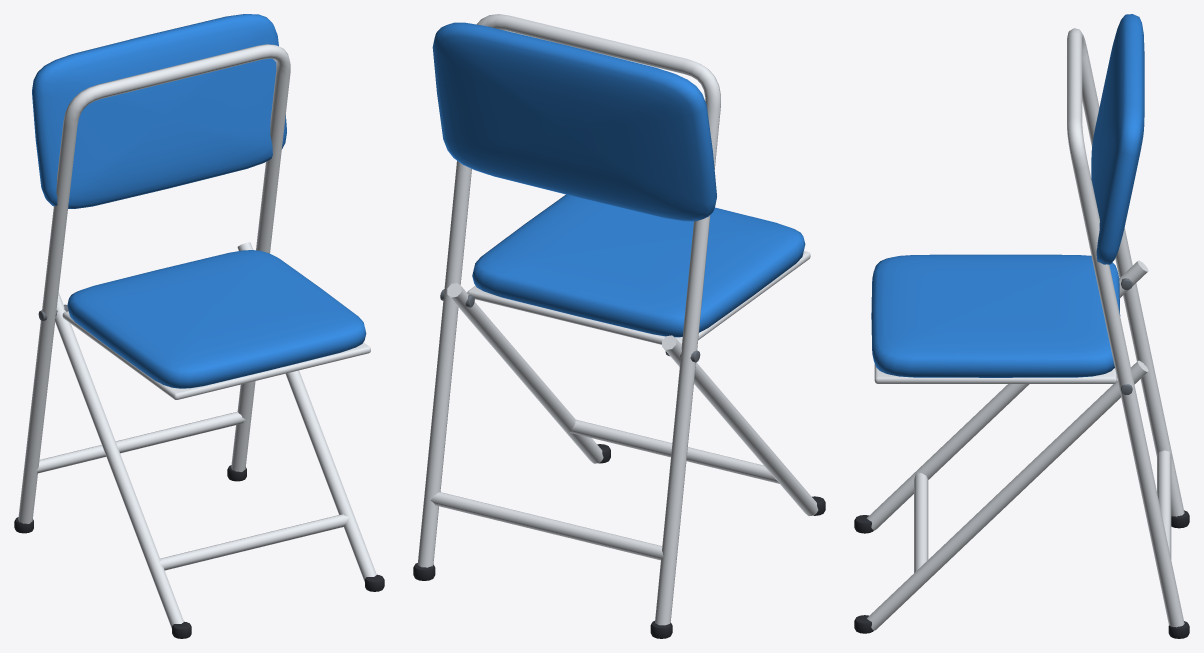
The model's file is cadeira_dobravel_azul.glb.
The picture shows the model from 3 angles, left to right: view 1: azimuth 30°, elevation 25°; view 2: azimuth 150°, elevation 25°; view 3: azimuth 270°, elevation 25°; orthographic projection. The views are drawn at different scales.
Parts seen in each view (by area): view 1: cadeira_dobravel_azul; view 2: cadeira_dobravel_azul; view 3: cadeira_dobravel_azul.
Boxes of the visible parts, box(x1,y1,x2,y2) form: cadeira_dobravel_azul: box(14, 14, 384, 638); cadeira_dobravel_azul: box(413, 14, 825, 638); cadeira_dobravel_azul: box(854, 14, 1189, 638).
Bounding box in the file's own units: 0.46 × 0.8706 × 0.512.
Materials: 1 (1 with a texture image).
